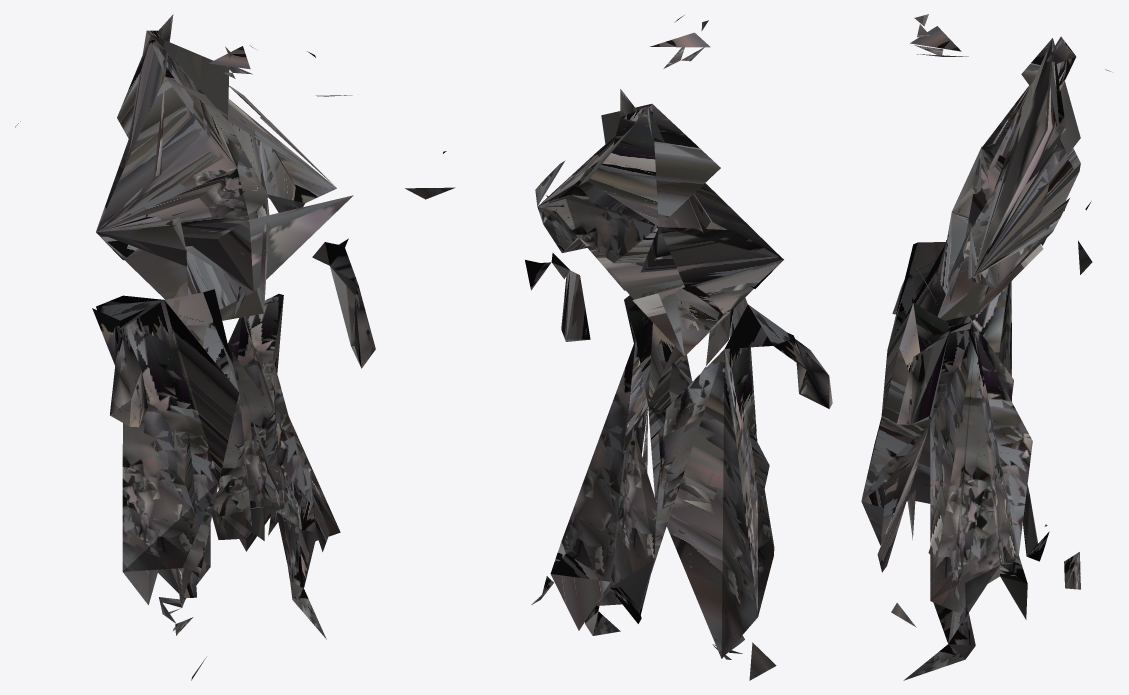
Rendered from female_blue_far.glb.
3 views of the same model, side by side, from view 1: azimuth 30°, elevation 25°; view 2: azimuth 150°, elevation 25°; view 3: azimuth 270°, elevation 25° (orthographic). The views are drawn at different scales.
Visible parts, largest first — view 1: female_blue_far; view 2: female_blue_far; view 3: female_blue_far.
Part boxes in pixels (left/top/right/bottom): female_blue_far: left=15, top=14, right=375, bottom=680; female_blue_far: left=405, top=15, right=832, bottom=680; female_blue_far: left=861, top=14, right=1110, bottom=680.
Bounding box in the file's own units: 0.892 × 1.58 × 0.5734.
1 material, 1 textured.
